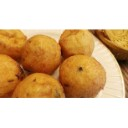bonda: (60, 56, 106, 98), (22, 34, 61, 73), (15, 72, 63, 98), (59, 30, 99, 56), (1, 29, 25, 58)
